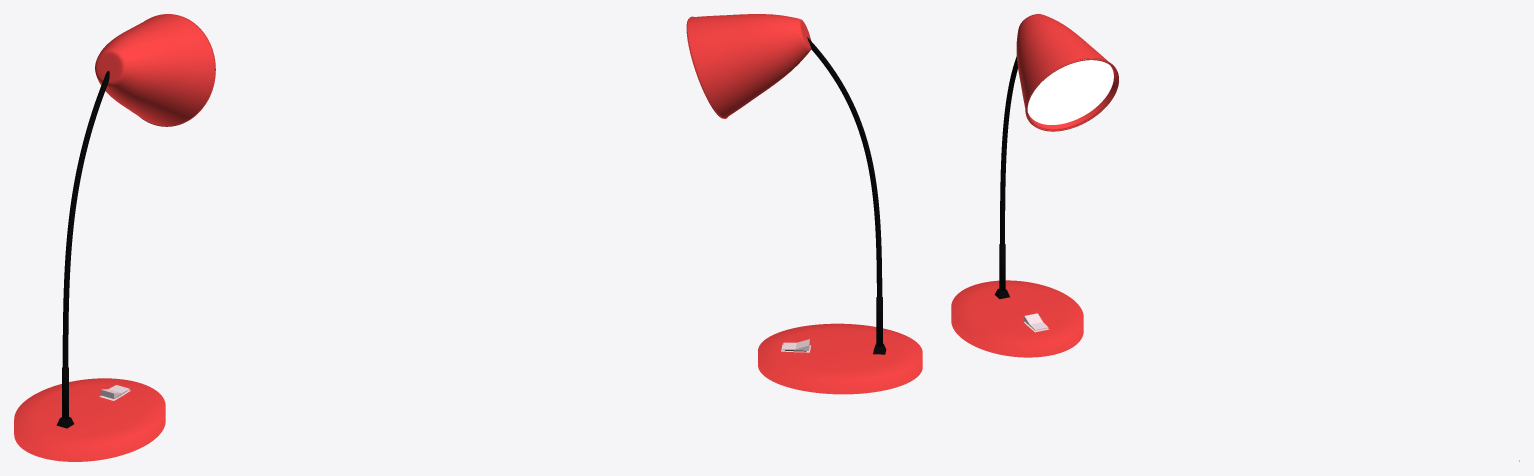
The model's file is desk_lamp.glb.
3 renders of one model, left to right at view 1: azimuth 30°, elevation 25°; view 2: azimuth 150°, elevation 25°; view 3: azimuth 270°, elevation 25°, orthographic. The views are drawn at different scales.
Parts seen in each view (by area): view 1: Cylinder.002, Cylinder, Cylinder.001, Cube.028; view 2: Cylinder, Cylinder.002, Cylinder.001; view 3: Cylinder, Cylinder.002, Cylinder.003, Cylinder.001.
Part boxes in pixels (<box>): Cylinder.002: <box>95,14,215,126</box>; Cylinder: <box>14,378,165,461</box>; Cylinder.001: <box>62,71,109,419</box>; Cube.028: <box>99,385,130,400</box>; Cylinder: <box>758,323,922,394</box>; Cylinder.002: <box>686,14,811,118</box>; Cylinder.001: <box>807,37,882,346</box>; Cylinder: <box>951,280,1083,357</box>; Cylinder.002: <box>1016,14,1118,131</box>; Cylinder.003: <box>1027,60,1113,124</box>; Cylinder.001: <box>999,56,1017,290</box>.
Size of the model in its own units: 2.21 by 1.83 by 2.88.
